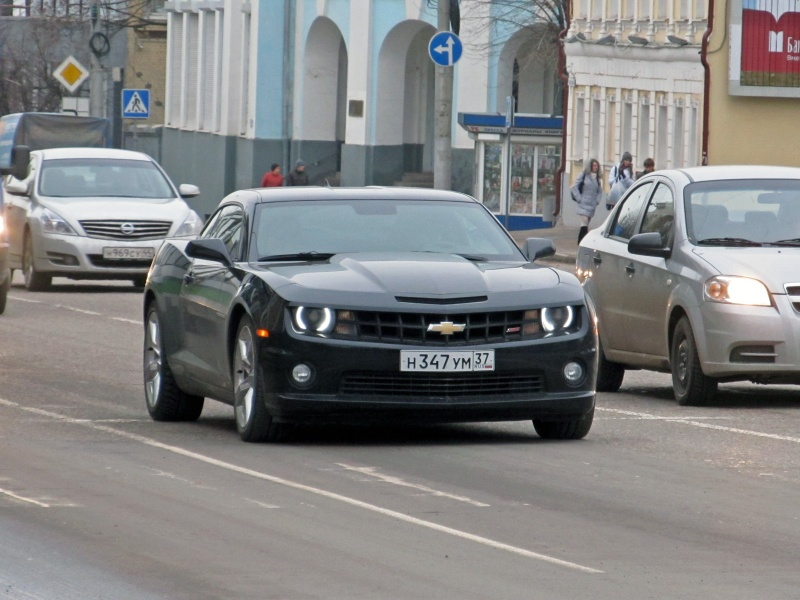car: (142, 187, 600, 438), (577, 166, 800, 403), (7, 148, 204, 295)
person: (571, 158, 604, 244), (608, 152, 633, 185), (287, 159, 308, 185), (261, 163, 283, 187), (635, 158, 654, 179)
plate: (401, 351, 494, 370), (104, 247, 154, 258)
